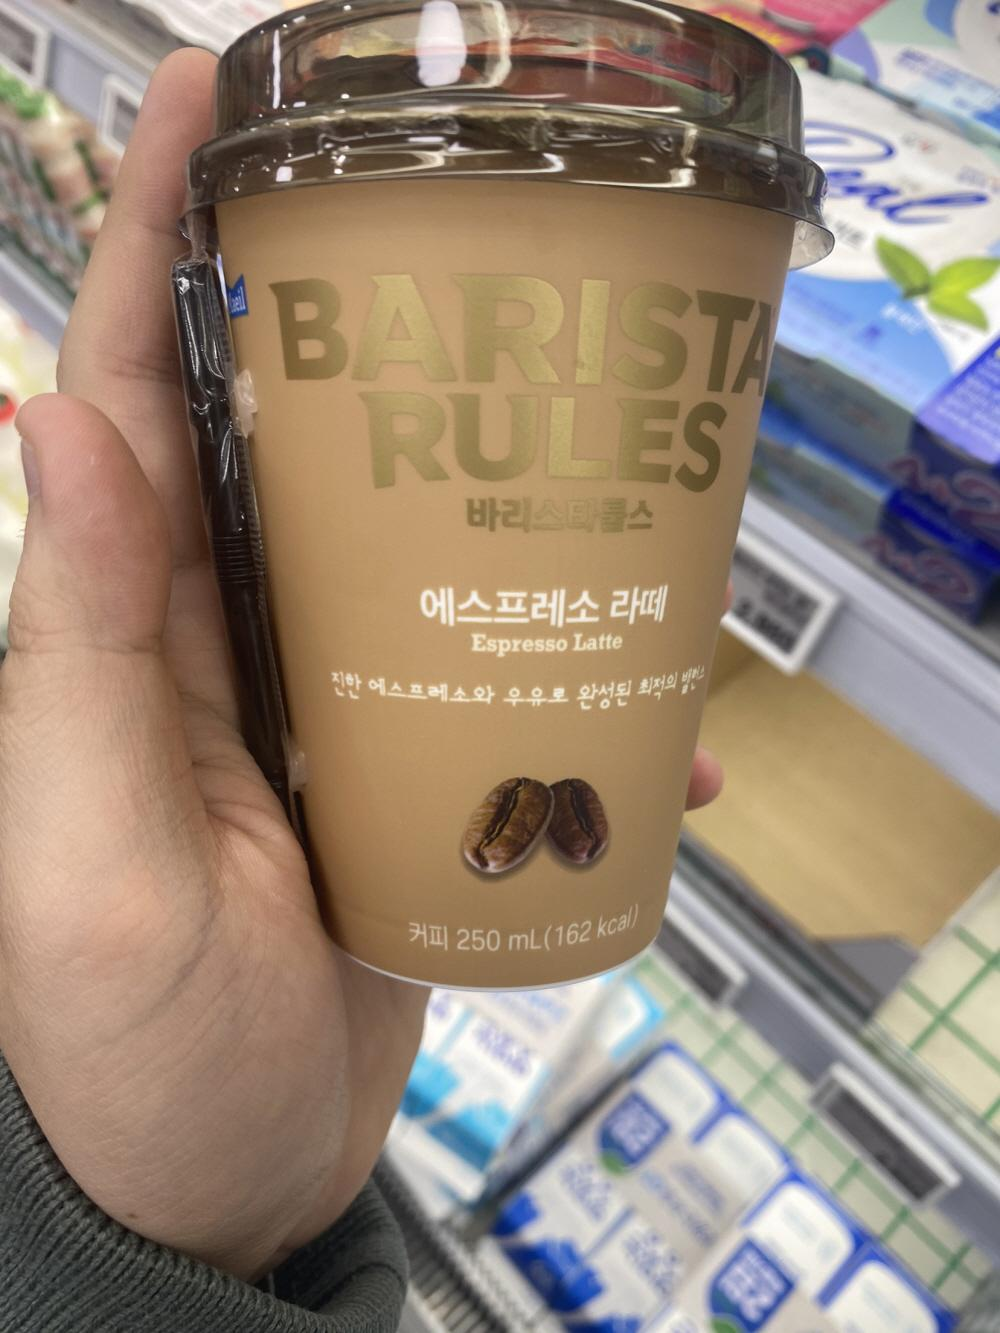baristarules_espressolatte: (181, 24, 834, 990)
